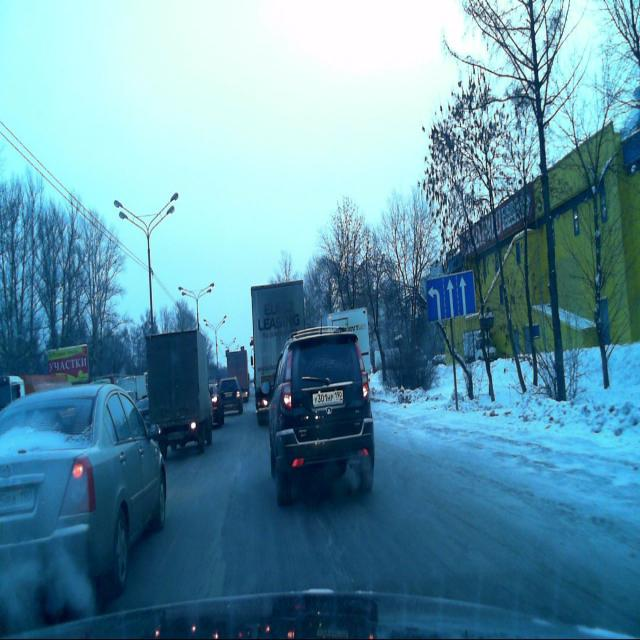object: (450, 324, 458, 409)
road sign: (424, 269, 476, 323)
